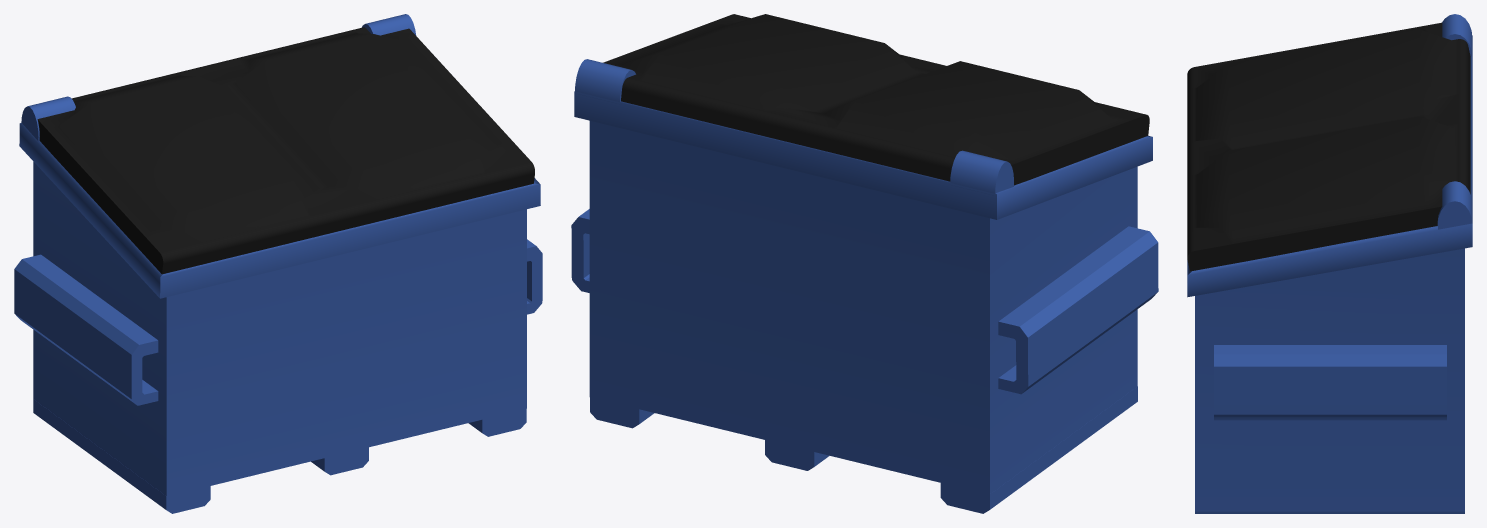
File: dumpster.fbx
3 renders of one model, left to right at view 1: azimuth 30°, elevation 25°; view 2: azimuth 150°, elevation 25°; view 3: azimuth 270°, elevation 25°, orthographic. The views are drawn at different scales.
Parts seen in each view (by area): view 1: pCube11; view 2: pCube11; view 3: pCube11.
Part boxes in pixels (box(x1,y1,x2,y2)): pCube11: box(14, 14, 542, 513); pCube11: box(571, 14, 1158, 513); pCube11: box(1187, 14, 1472, 513).
Bounding box in the file's own units: 572 × 428 × 338.
